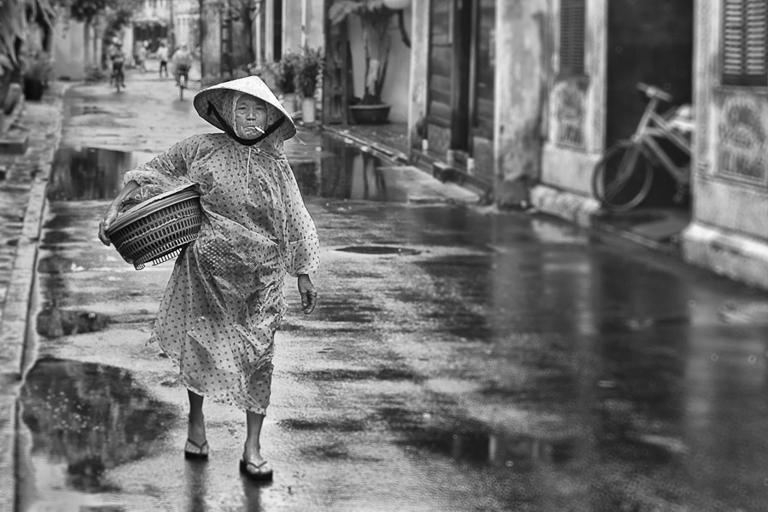non-vehicle: (590, 80, 694, 214), (109, 54, 125, 91), (176, 67, 188, 101)
